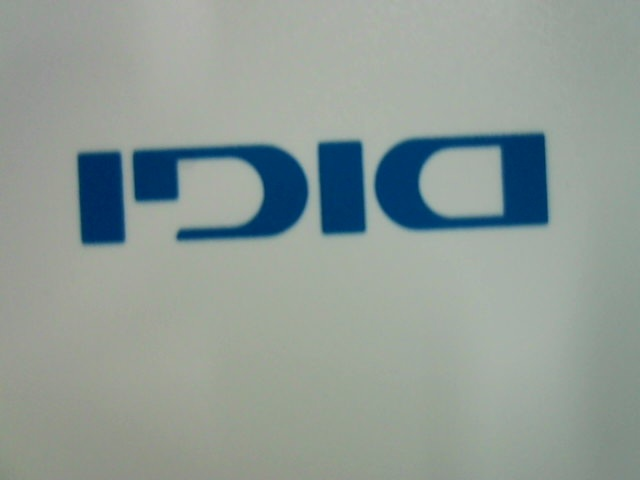BL_DIGI: (67, 109, 559, 252)
